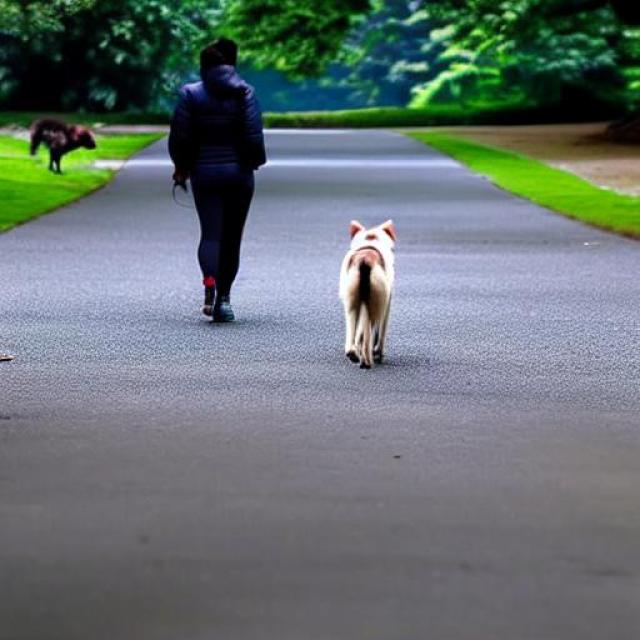Unleashed_Dog: (189, 152, 397, 370)
